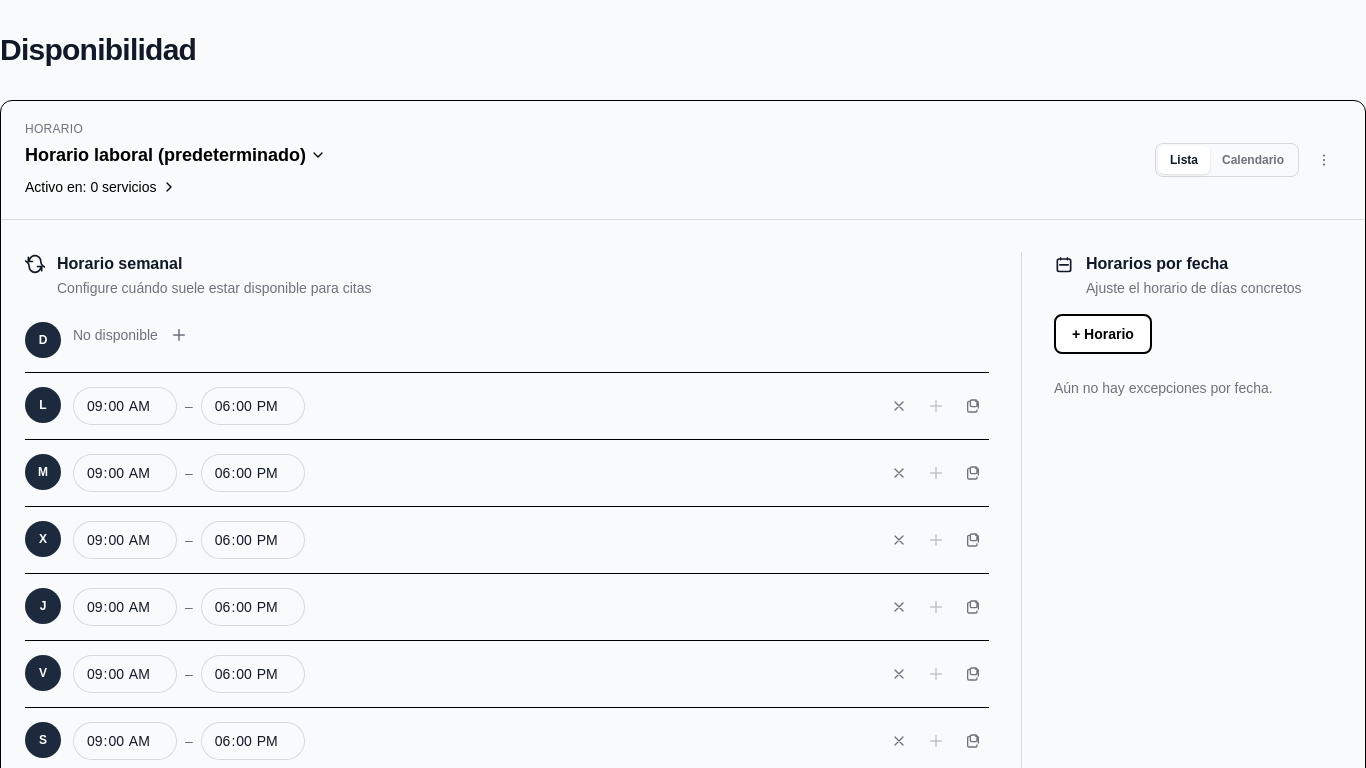
Test: AdminAvailabilityPage › weekly hours › enables a closed day and persists when saved
Check: the heading "Horario semanal" is shown, box x1=57 y1=255 x2=182 y2=272
Click the button named "Añadir horario para Domingo".
click(179, 335)  # box x1=166 y1=322 x2=192 y2=348
(page scrolled)
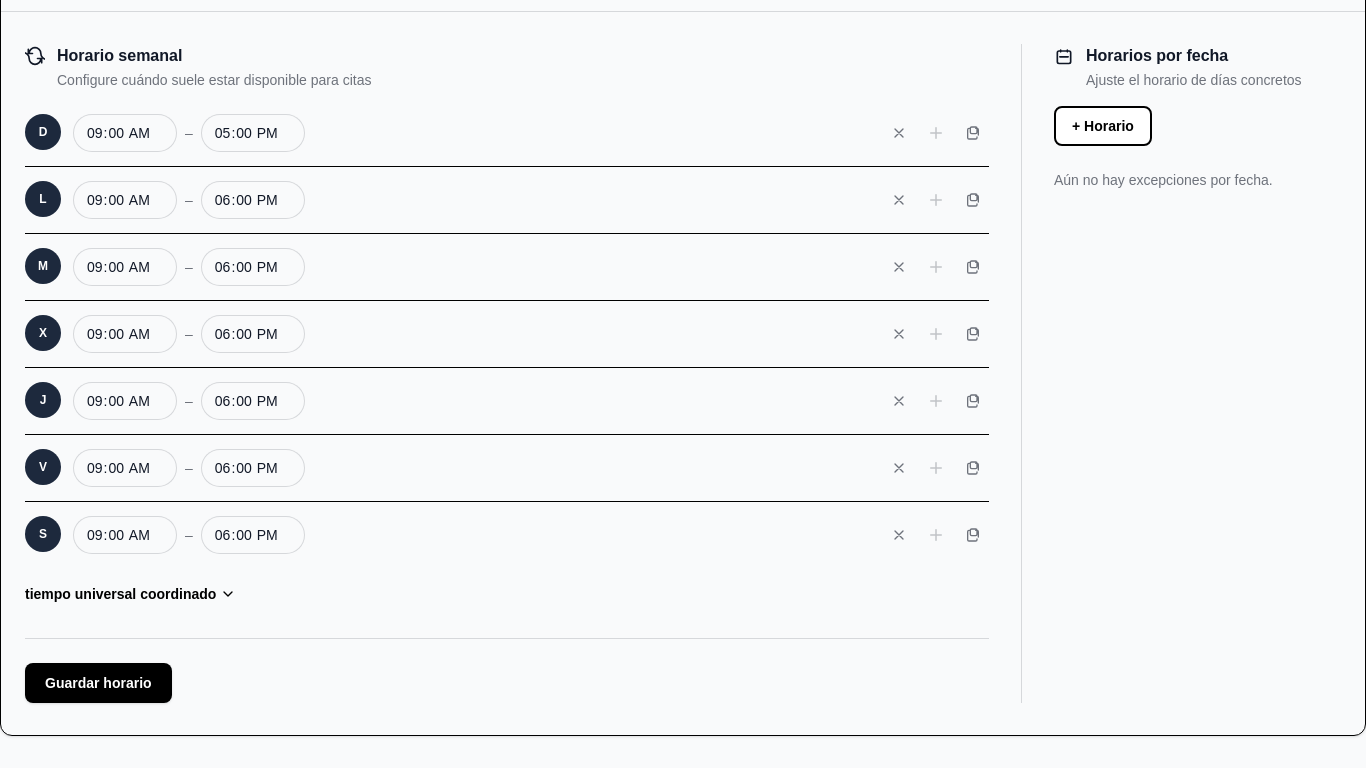
Check: the time field with id "from-sun" holds "09:00", box x1=73 y1=114 x2=177 y2=152
Check: the time field with id "to-sun" holds "17:00", box x1=201 y1=114 x2=305 y2=152
Click the button "Guardar horario".
click(98, 683)  # box x1=25 y1=663 x2=172 y2=703
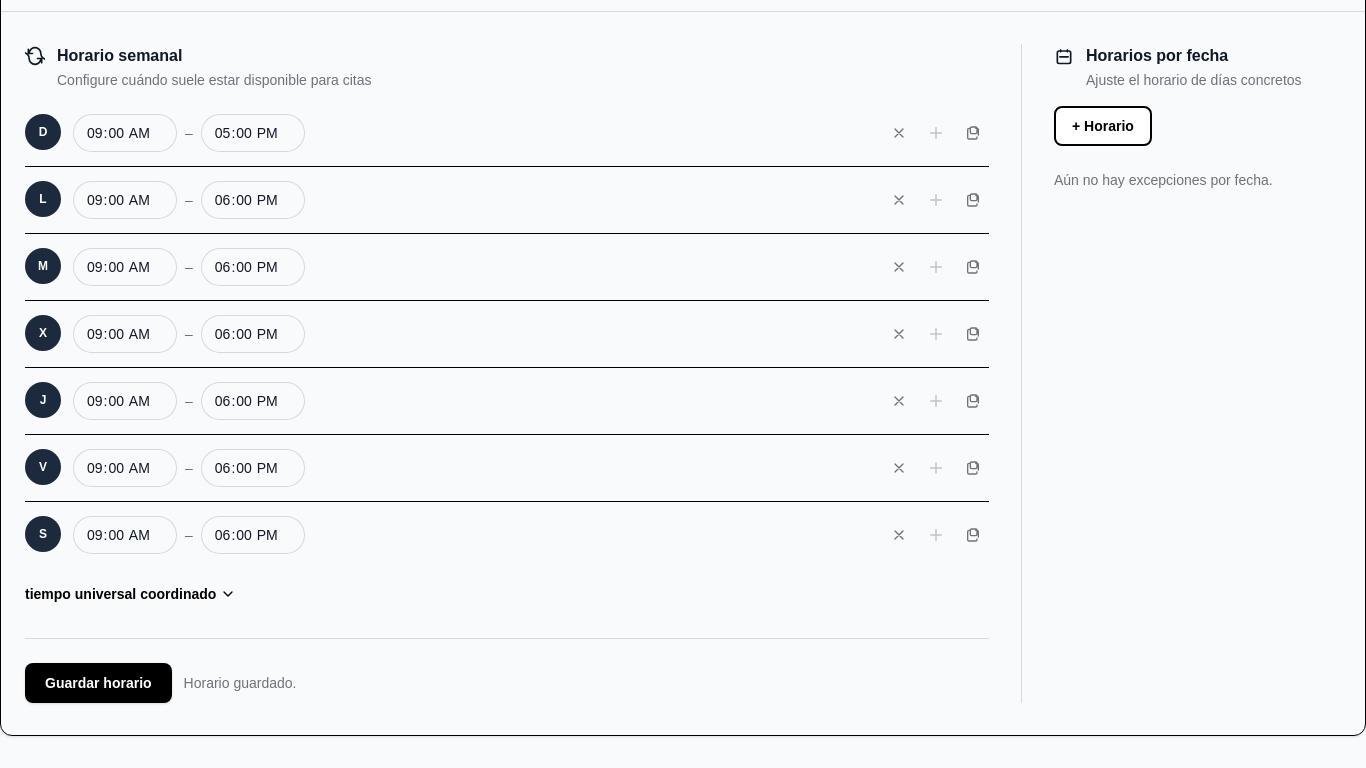
Check: the message reads "Horario guardado.", box x1=184 y1=675 x2=296 y2=691
